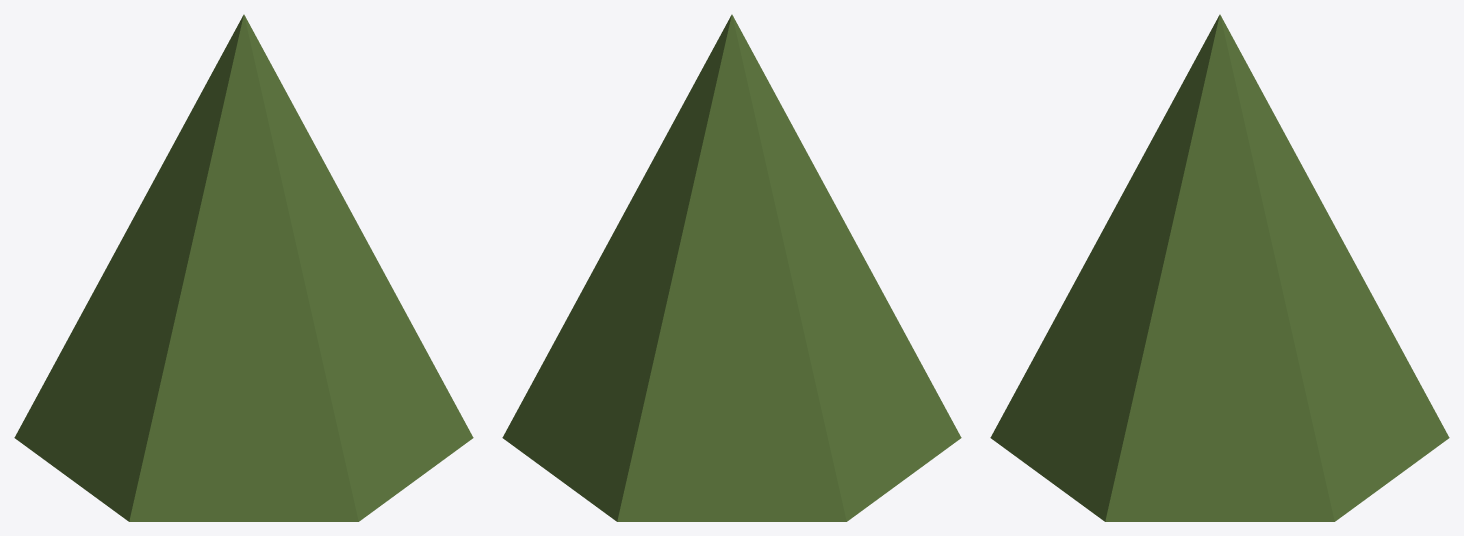
File: br_willow_a_lod2.glb
The picture shows the model from 3 angles, left to right: view 1: azimuth 30°, elevation 25°; view 2: azimuth 150°, elevation 25°; view 3: azimuth 270°, elevation 25°; orthographic projection.
Parts seen in each view (by area): view 1: br_willow_a_lod2; view 2: br_willow_a_lod2; view 3: br_willow_a_lod2.
Part boxes in pixels (left/top/right/bottom): br_willow_a_lod2: left=14, top=14, right=473, bottom=521; br_willow_a_lod2: left=502, top=14, right=961, bottom=521; br_willow_a_lod2: left=990, top=14, right=1449, bottom=521.
Size of the model in its own units: 2.78 by 3.27 by 3.21.
